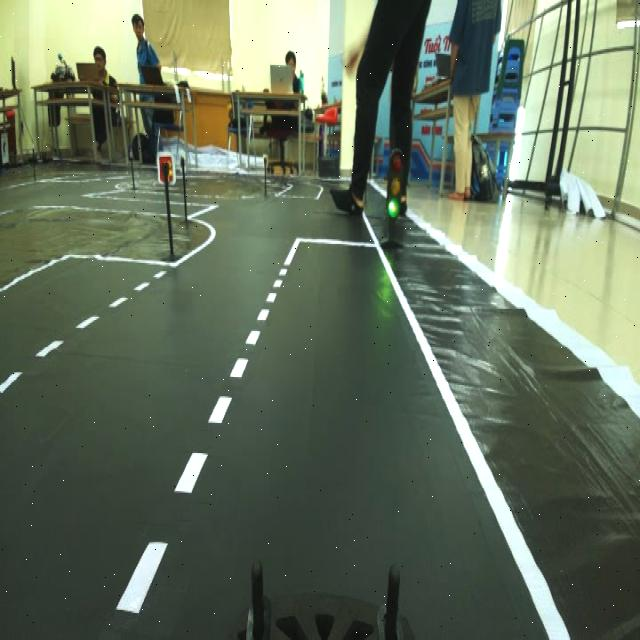trafficlight: (375, 140, 405, 258)
